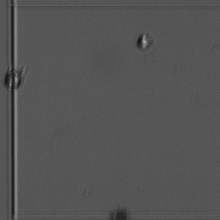Living Cell: (1, 67, 32, 94), (133, 32, 159, 55)
